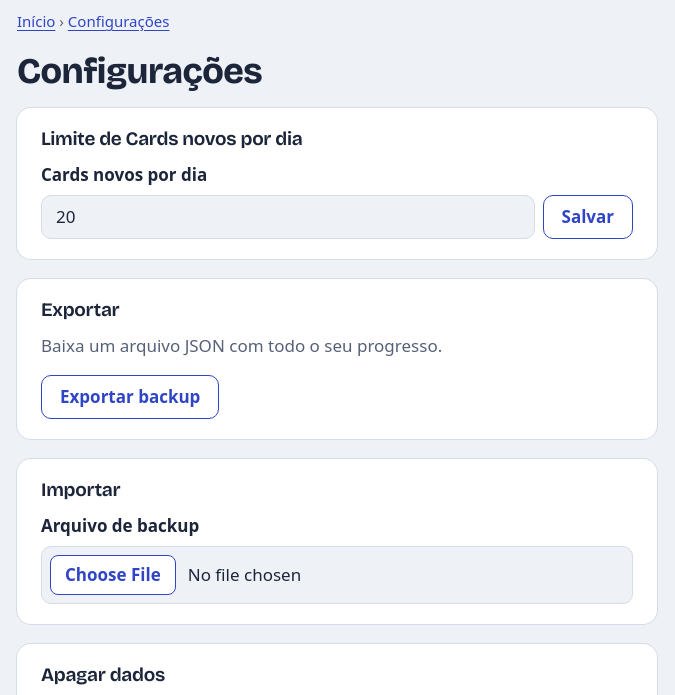
it: Configuracoes › salvar o limite grava em settings e avisa
Replace the text in the number field labelled "Cards novos por dia" with "5" at [288, 217], box [41, 195, 534, 239]
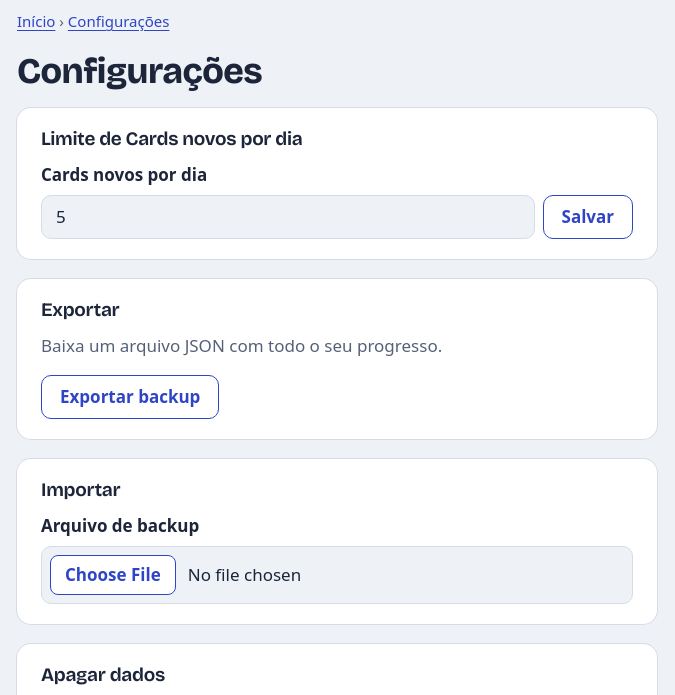
Click the button "Salvar" at [588, 217], box [542, 195, 633, 239]
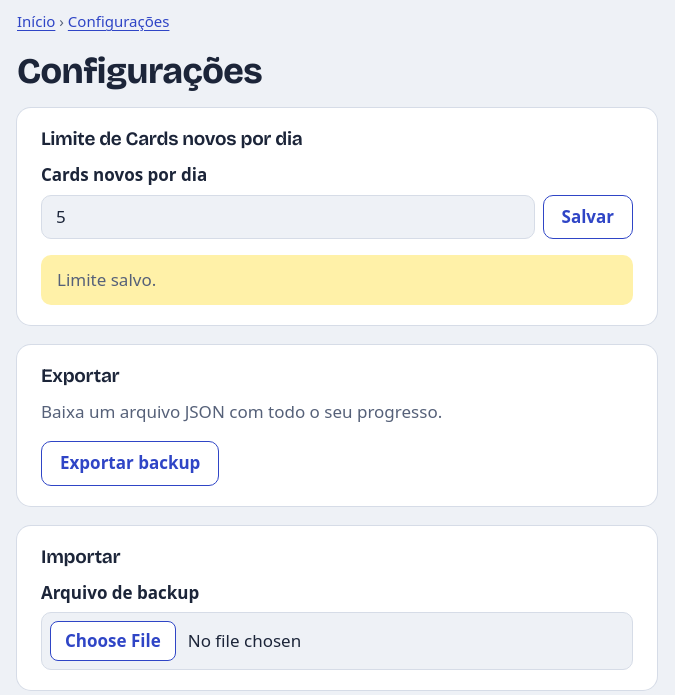
Result: the text "Limite salvo." is shown at [41, 255, 633, 305]
